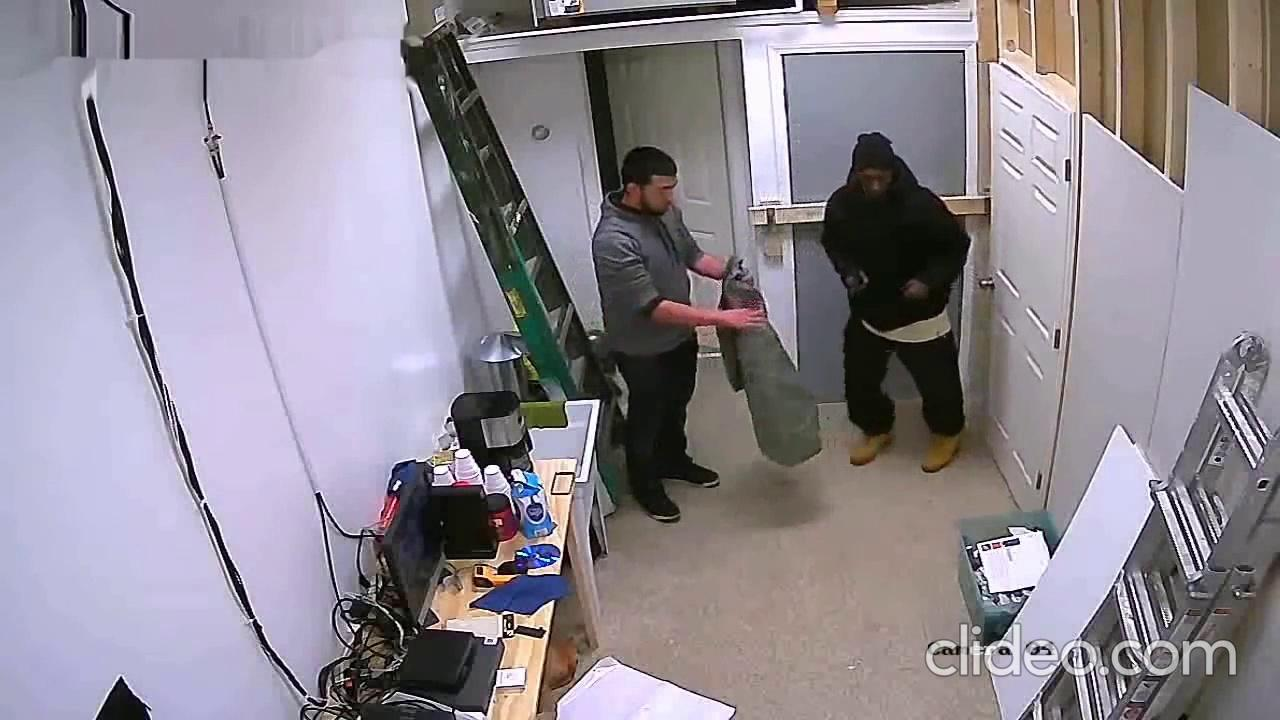person: (591, 144, 768, 524), (820, 131, 974, 474)
pistol: (845, 262, 869, 298)
